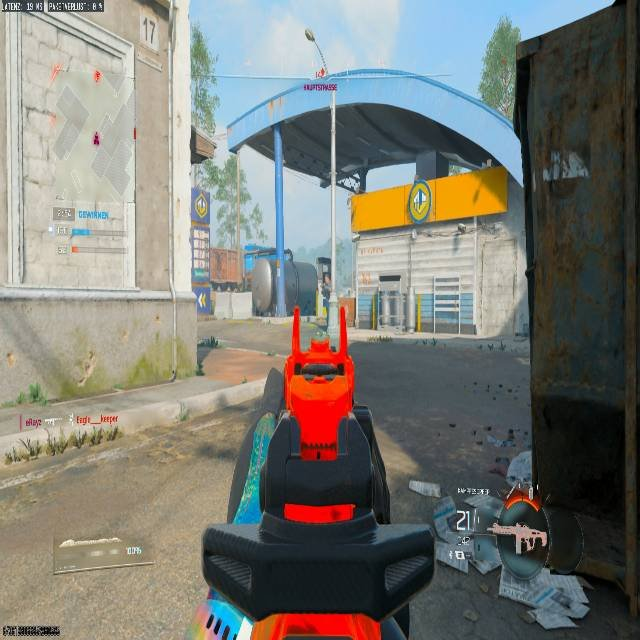head: (488, 500, 549, 574)
player: (473, 500, 594, 631)
